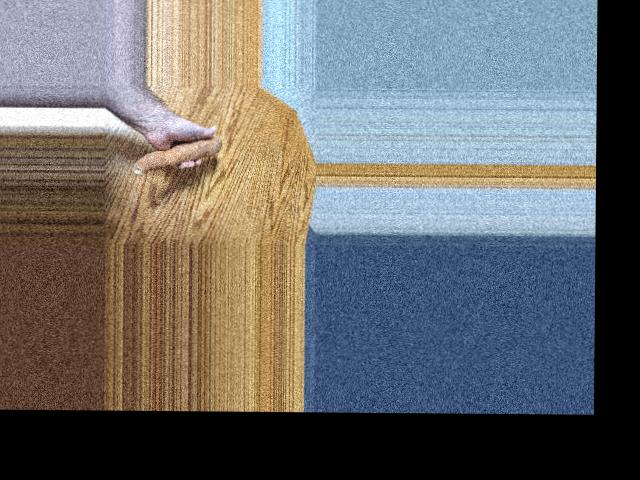sweet_potato: (133, 137, 223, 161)
